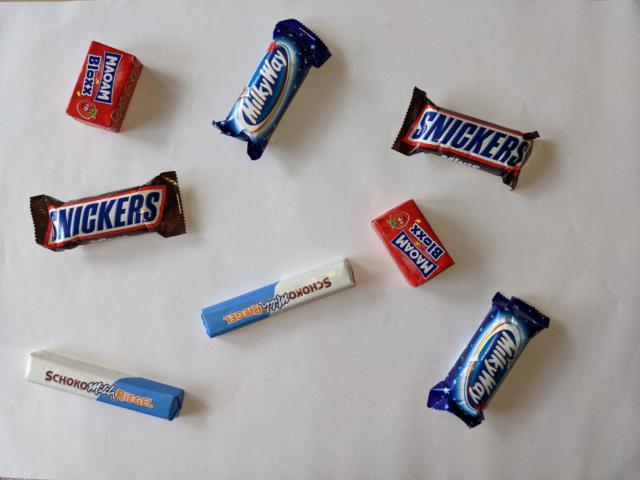MAOAM: (367, 196, 458, 290), (63, 39, 145, 135)
MilkyWay: (424, 289, 554, 431), (210, 17, 334, 163)
Schokoriegel: (198, 255, 360, 341), (22, 346, 187, 422)
Snickers: (388, 84, 542, 193), (27, 169, 190, 255)
